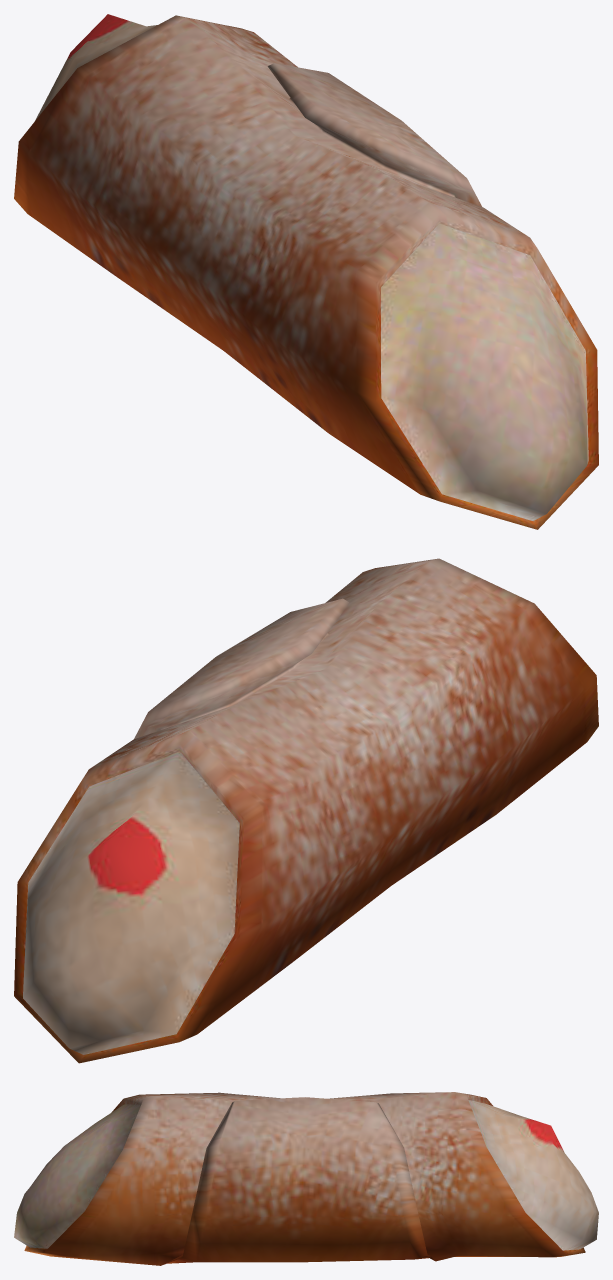
3 renders of one model, top to bottom at view 1: azimuth 30°, elevation 25°; view 2: azimuth 150°, elevation 25°; view 3: azimuth 270°, elevation 25°, orthographic. The views are drawn at different scales.
Visible parts, largest first — view 1: Cannolo1.001; view 2: Cannolo1.001; view 3: Cannolo1.001.
Boxes of the visible parts, x1,y1,x2,y2 form: Cannolo1.001: (14,14,598,529); Cannolo1.001: (14,558,598,1063); Cannolo1.001: (14,1092,598,1265).
Bounding box in the file's own units: 0.1987 × 0.2061 × 0.6454.
Materials: 1 (1 with a texture image).
